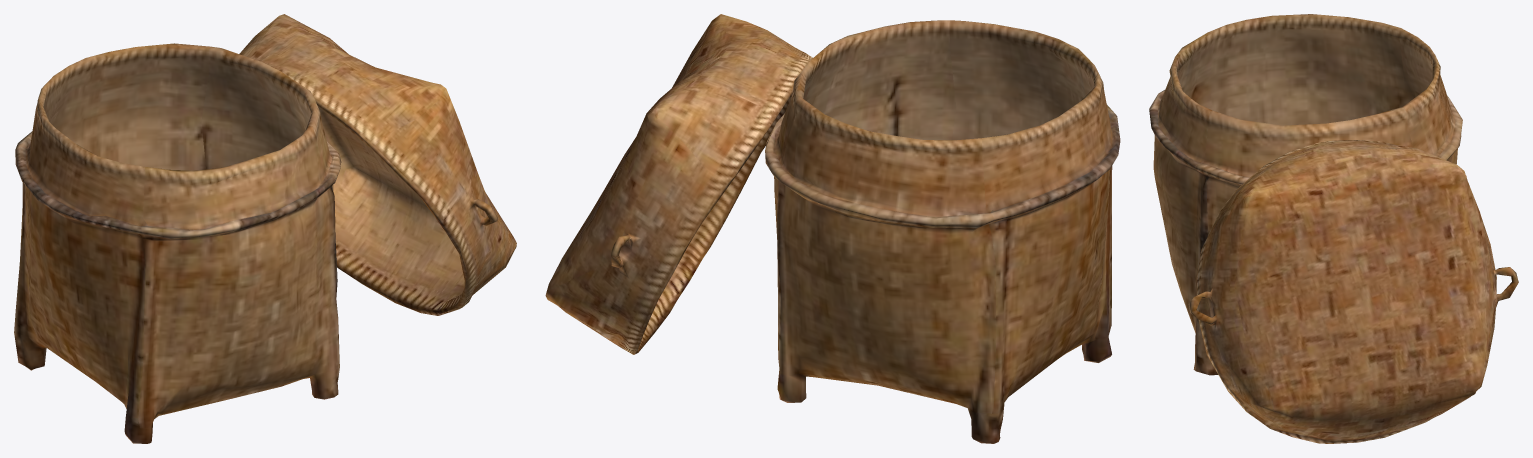
The model's file is x_basket.glb.
3 renders of one model, left to right at view 1: azimuth 30°, elevation 25°; view 2: azimuth 150°, elevation 25°; view 3: azimuth 270°, elevation 25°, orthographic. The views are drawn at different scales.
Size of the model in its own units: 0.3455 by 0.2004 by 0.2541.
Materials: 1 (1 with a texture image).
